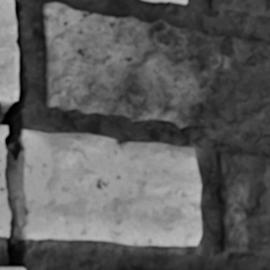brick: (42, 3, 269, 135), (215, 154, 269, 256), (0, 0, 18, 102), (208, 0, 269, 18), (140, 0, 186, 5), (0, 267, 24, 269)
broken_brick: (22, 130, 200, 246), (0, 126, 10, 237)
crack: (0, 1, 30, 269)
